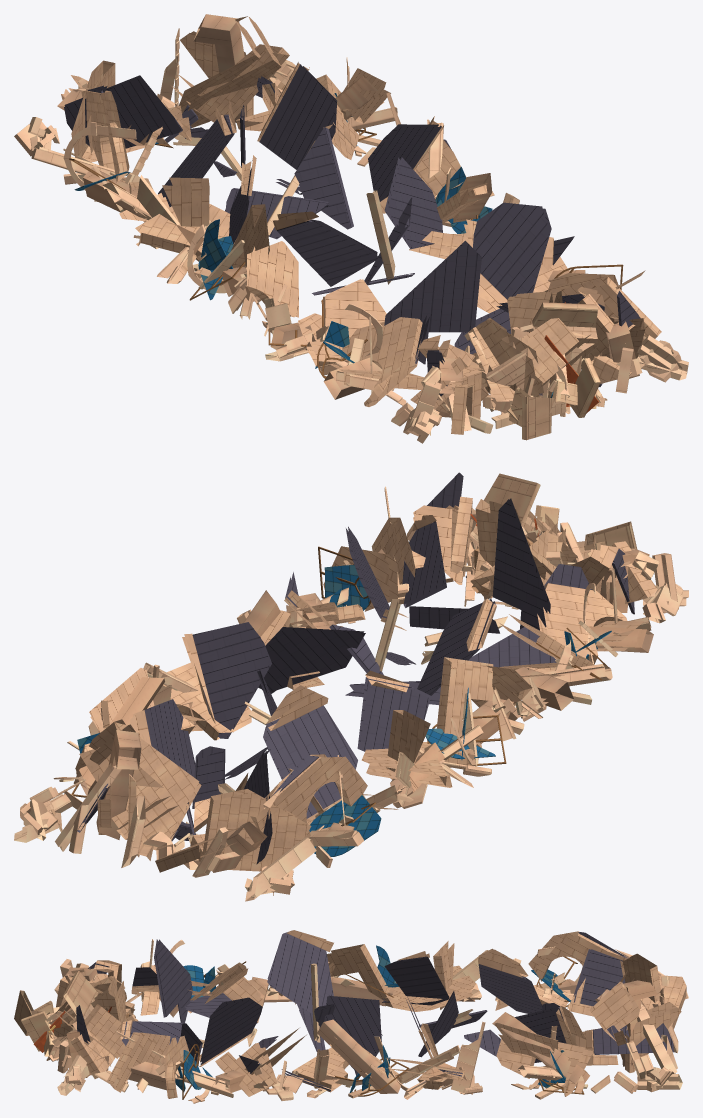
Rendered from houdini_stone_church_pieces.glb.
3 renders of one model, top to bottom at view 1: azimuth 30°, elevation 25°; view 2: azimuth 150°, elevation 25°; view 3: azimuth 270°, elevation 25°, orthographic. The views are drawn at different scales.
Parts seen in each view (by area): view 1: LOD0; view 2: LOD0; view 3: LOD0.
Part boxes in pixels (x1,y1,x2,y2): LOD0: [14, 14, 688, 443]; LOD0: [14, 472, 688, 901]; LOD0: [14, 930, 688, 1103].
Size of the model in its own units: 15.18 by 5.6 by 35.07.
6 materials, 6 textured.
